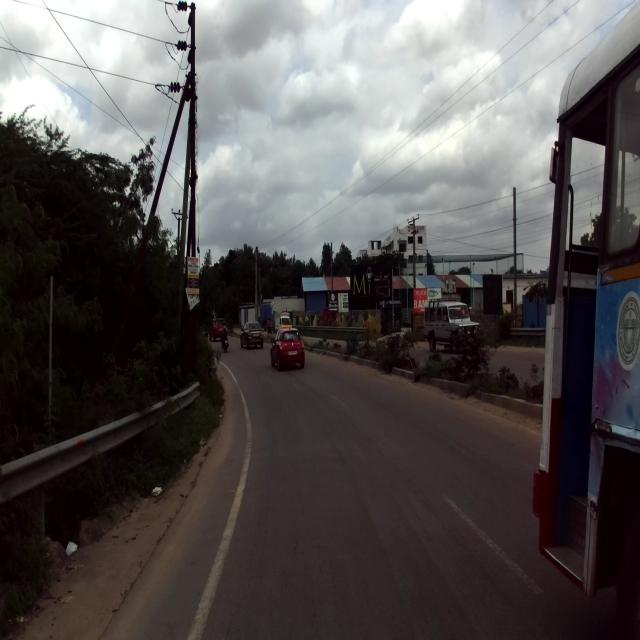bus: (532, 0, 639, 639)
car: (269, 327, 305, 373)
